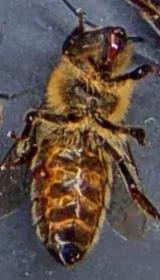varroa_mite: (24, 161, 53, 184)
